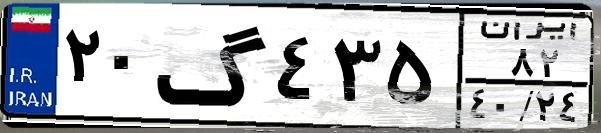0: (110, 28, 156, 98), (495, 70, 520, 125)
2: (57, 26, 110, 100), (537, 27, 568, 80), (535, 70, 560, 125)
3: (330, 28, 385, 110)
4: (270, 28, 330, 110), (560, 70, 590, 125), (470, 70, 495, 125)
5: (385, 28, 445, 110)
8: (508, 27, 537, 80)
گ: (156, 12, 270, 120)
